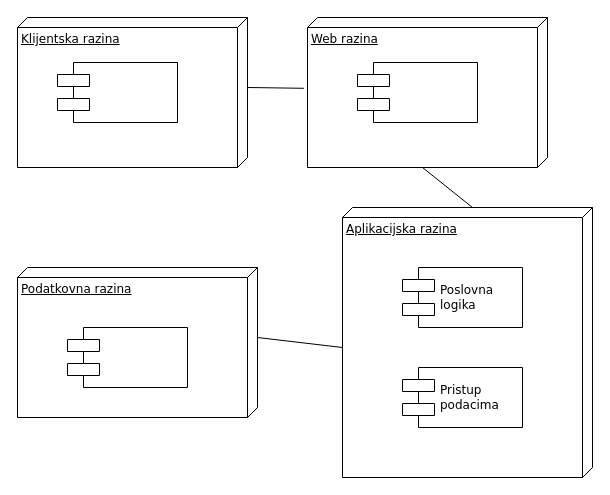
Some shapes in this 610 by 495 pixel diagram are drawn without their labels. Each missing label, with the centre of its shape:
"Baza podataka" belongs at [127,357].
"Korisničko računalo" belongs at [117,92].
"Web aplikacija" belongs at [417,92].
